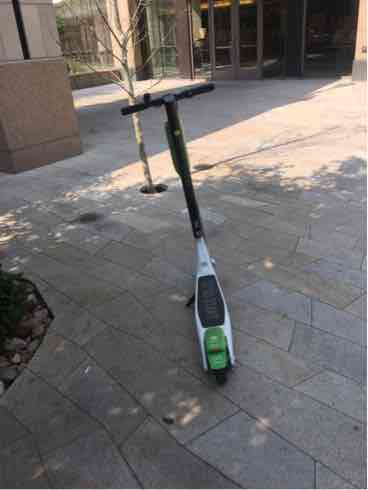scooter: (106, 71, 249, 381)
